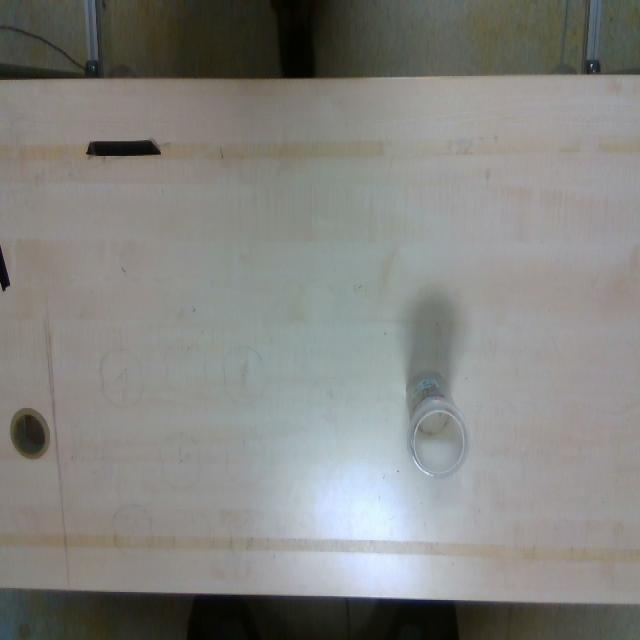cups: (406, 370, 470, 481)
